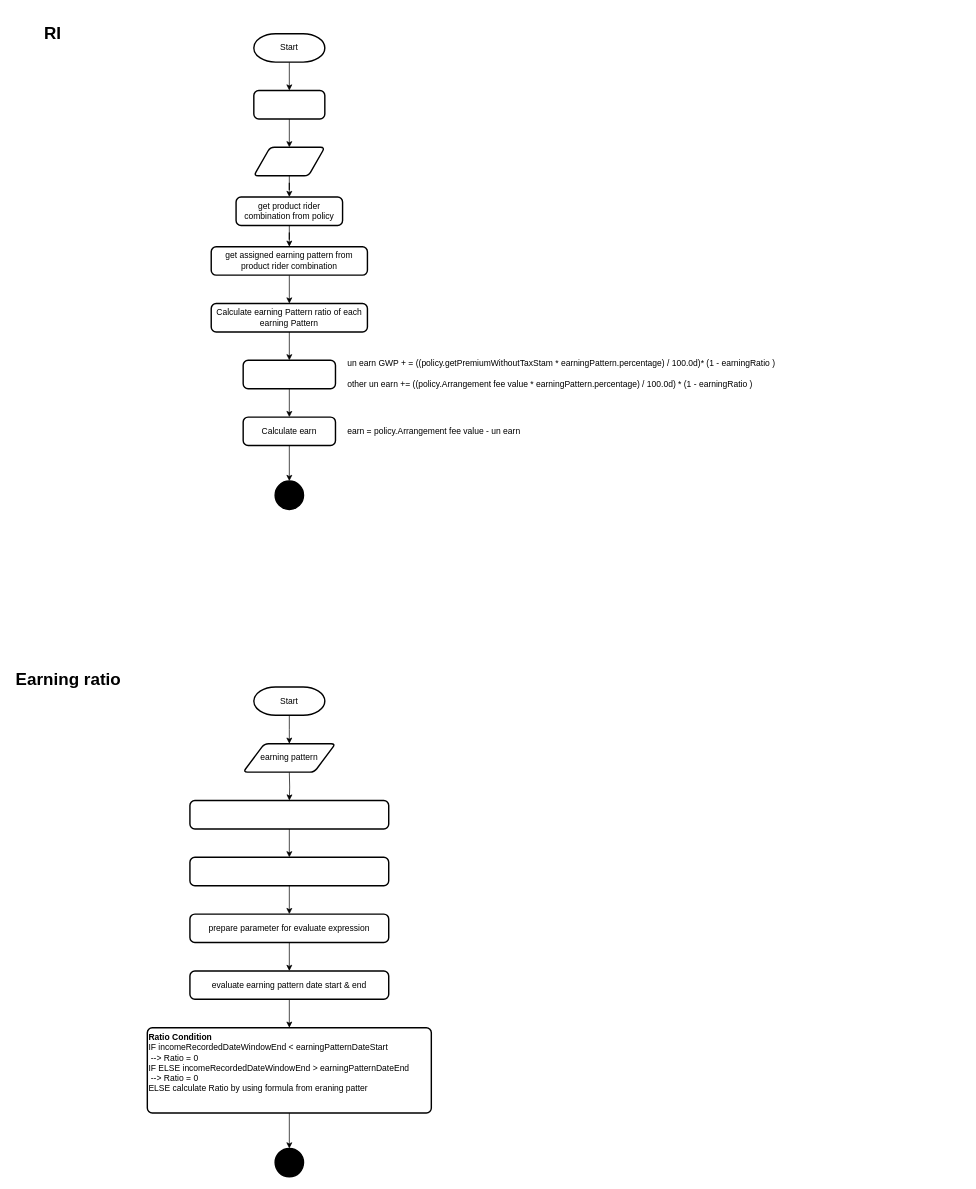
This 976x1189 diagram has some shape labels left out. The centre of each missing label's shape, as x and y in pixels:
Calculate un-earn: the point at 289,374
get date end expression from earning pattern: the point at 289,814
get date start expression from earning pattern: the point at 289,871
Policy: the point at 289,161
Retrieve Policy: the point at 289,104
